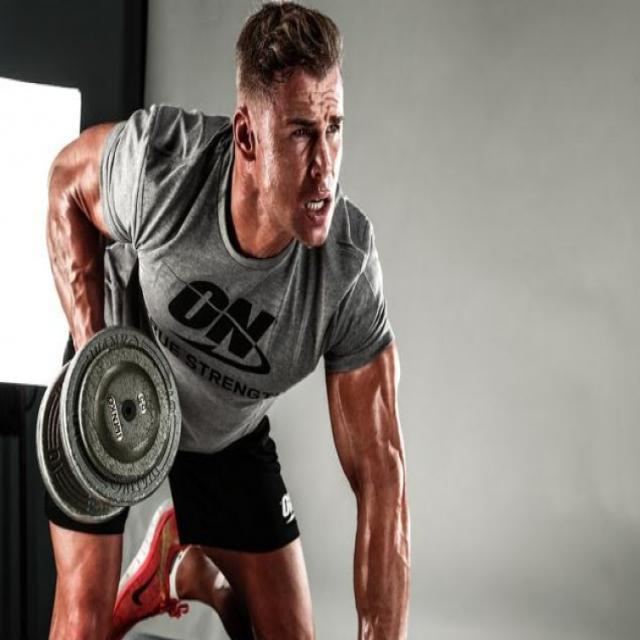human: (35, 5, 431, 640)
